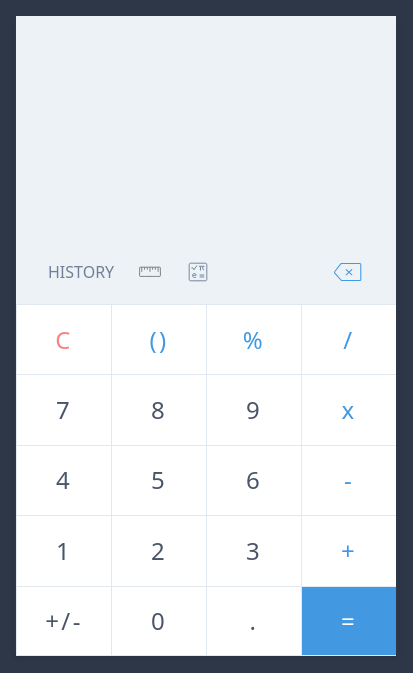
Test: can add numbers together
The width and height of the screenshot is (413, 673).
Click the element showing "7" at (64, 409), box [16,374,111,444]
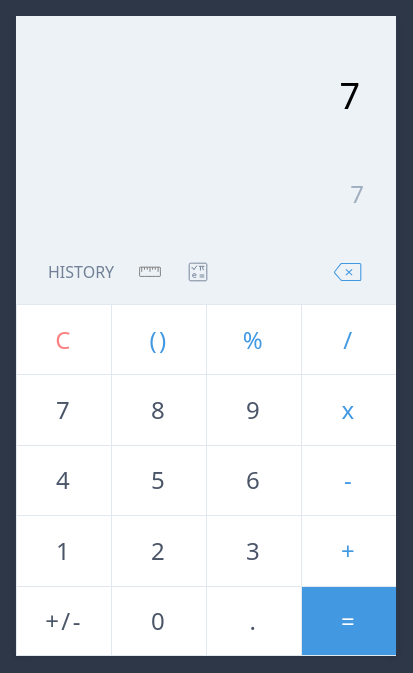
Click the element showing "x" at (349, 409), box [301,374,396,444]
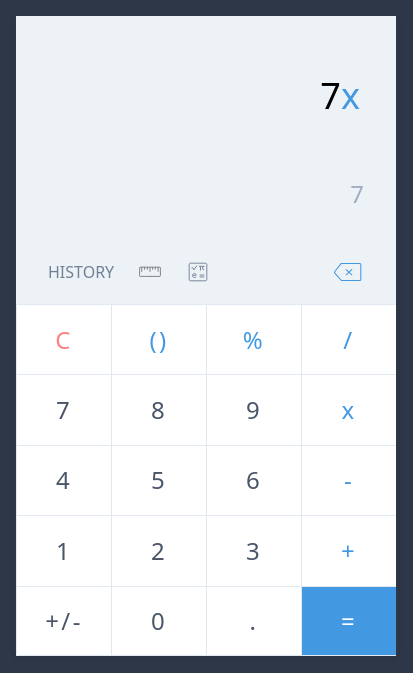
Click the element showing "6" at (254, 480), box [206,445,301,515]
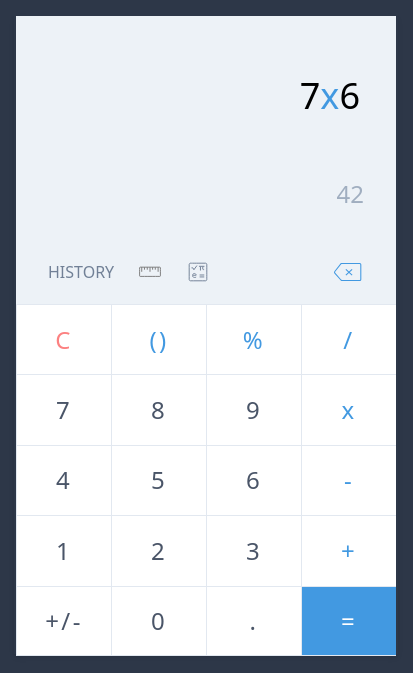
Click the element showing "=" at (349, 621), box [301,586,396,656]
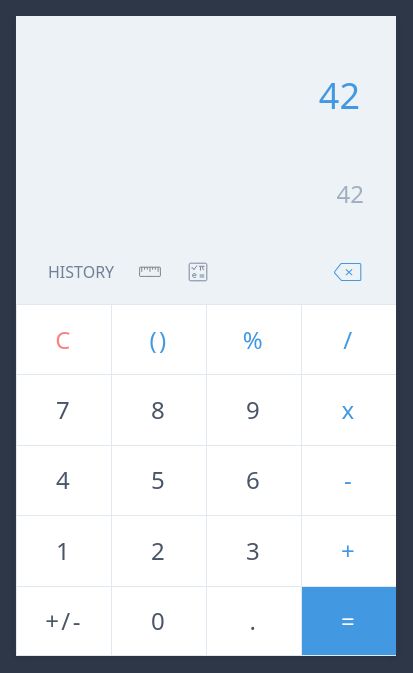
Result: the element with test id "calculator-input" reads "42" at [319,69,364,123]
